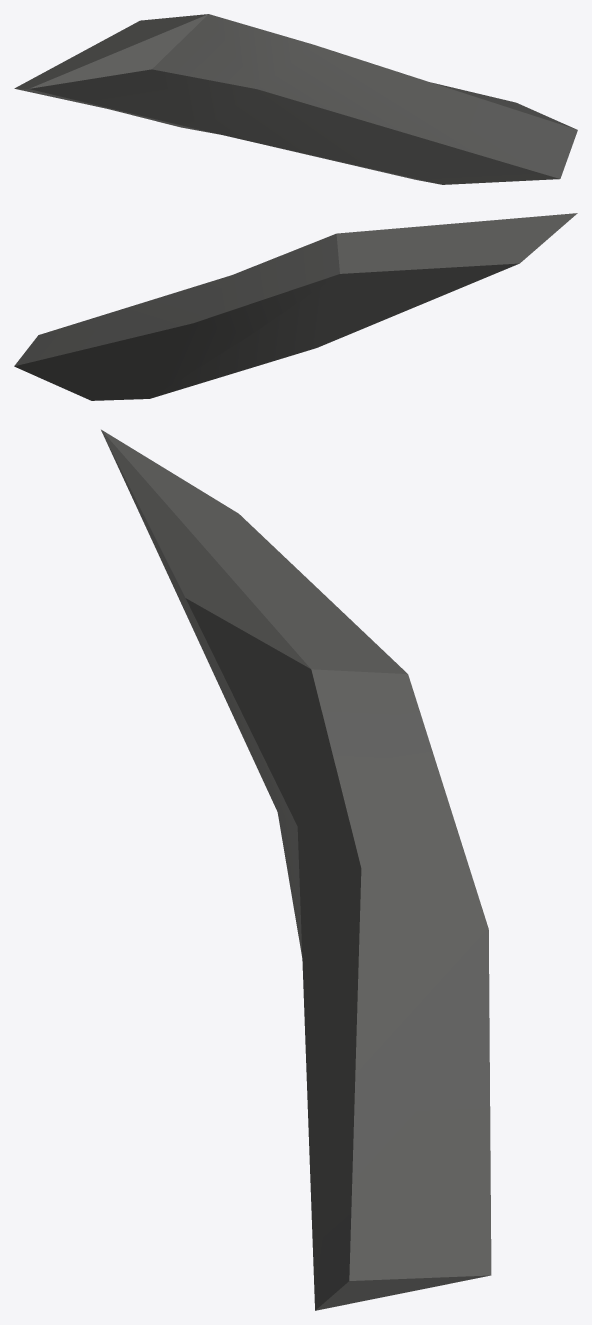
Rendered from worlds_SM_Env_Floating_Rocks_Single_02.gltf.
3 renders of one model, top to bottom at view 1: azimuth 30°, elevation 25°; view 2: azimuth 150°, elevation 25°; view 3: azimuth 270°, elevation 25°, orthographic. The views are drawn at different scales.
Parts seen in each view (by area): view 1: SM_Env_Floating_Rocks_Single_02; view 2: SM_Env_Floating_Rocks_Single_02; view 3: SM_Env_Floating_Rocks_Single_02.
Boxes of the visible parts, left/top/right/bottom form: SM_Env_Floating_Rocks_Single_02: left=14, top=14, right=577, bottom=184; SM_Env_Floating_Rocks_Single_02: left=14, top=213, right=577, bottom=400; SM_Env_Floating_Rocks_Single_02: left=101, top=429, right=491, bottom=1310.
Bounding box in the file's own units: 5.51 × 2.41 × 1.95.
Materials: 1 (1 with a texture image).
